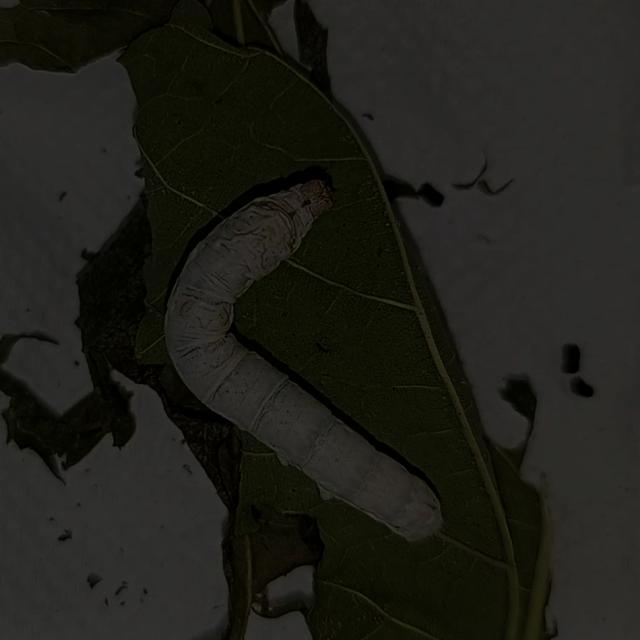Healthy: (151, 166, 454, 551)
